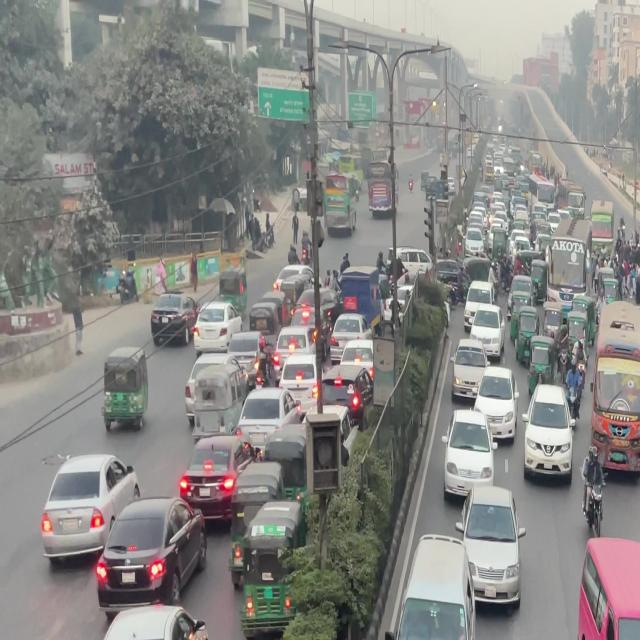bus: (388, 532, 480, 640), (459, 486, 524, 607), (590, 351, 640, 476), (101, 345, 148, 435), (594, 302, 640, 369)
car: (51, 464, 218, 596), (96, 498, 210, 612), (39, 454, 145, 562), (177, 432, 263, 522), (519, 382, 578, 490), (577, 539, 640, 640), (77, 605, 216, 640), (446, 414, 496, 499), (149, 302, 195, 349), (192, 303, 235, 349)
rickshaw: (231, 498, 310, 640)
